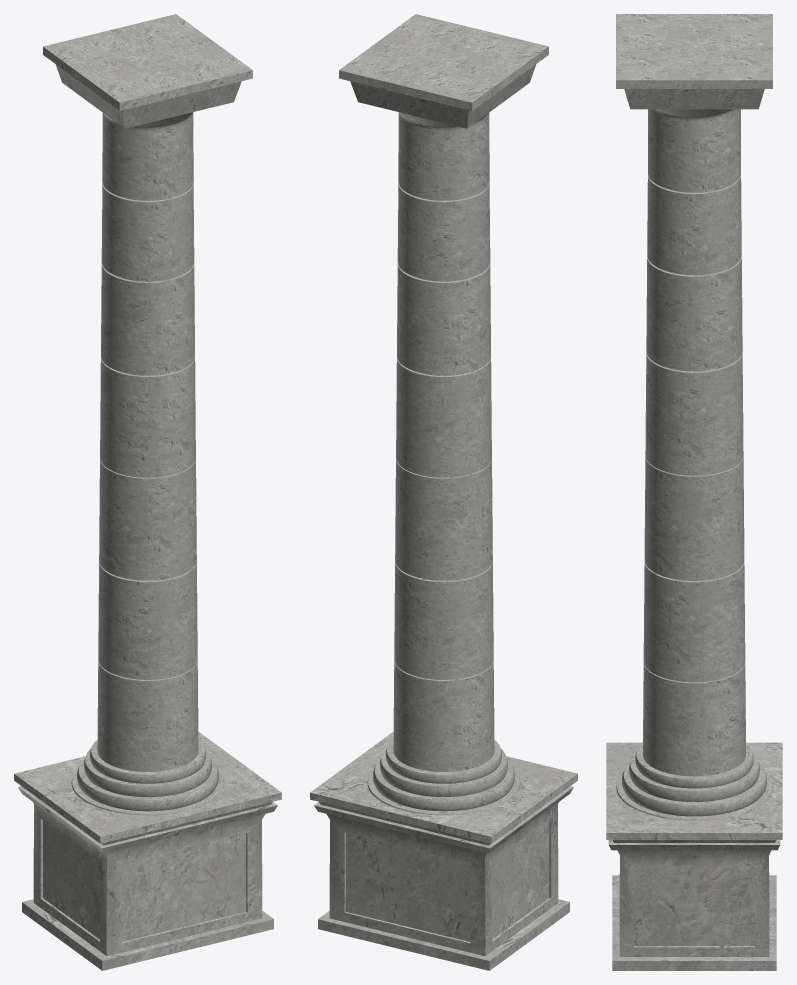
The model's file is ZSSpillar.glb.
3 renders of one model, left to right at view 1: azimuth 30°, elevation 25°; view 2: azimuth 150°, elevation 25°; view 3: azimuth 270°, elevation 25°, orthographic. The views are drawn at different scales.
Parts seen in each view (by area): view 1: Node1; view 2: Node1; view 3: Node1.
Part boxes in pixels (box(x1,y1,x2,y2)): Node1: box(14, 14, 281, 970); Node1: box(310, 14, 577, 970); Node1: box(606, 14, 782, 970).
Bounding box in the file's own units: 1.67 × 7.57 × 1.38.
1 material, 1 textured.
